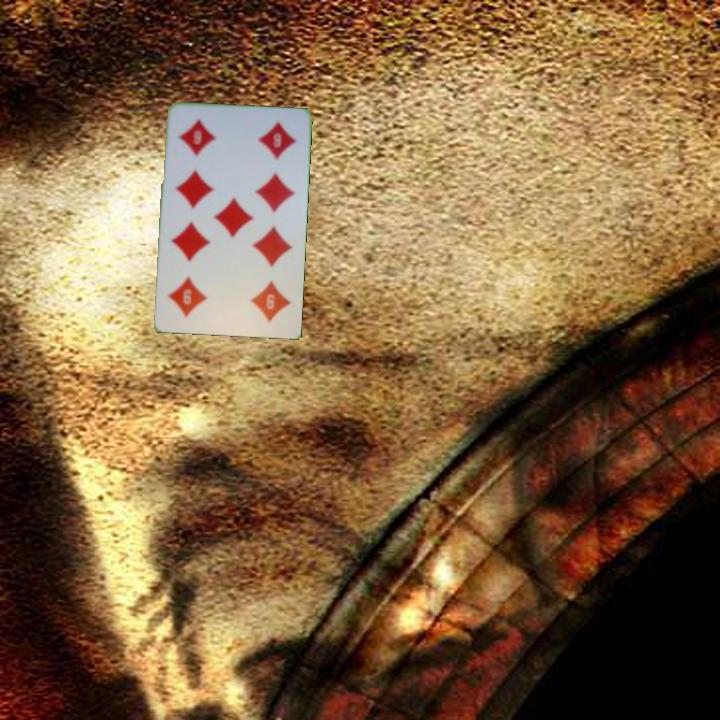d_9.png: (171, 111, 241, 172), (224, 268, 294, 329)
